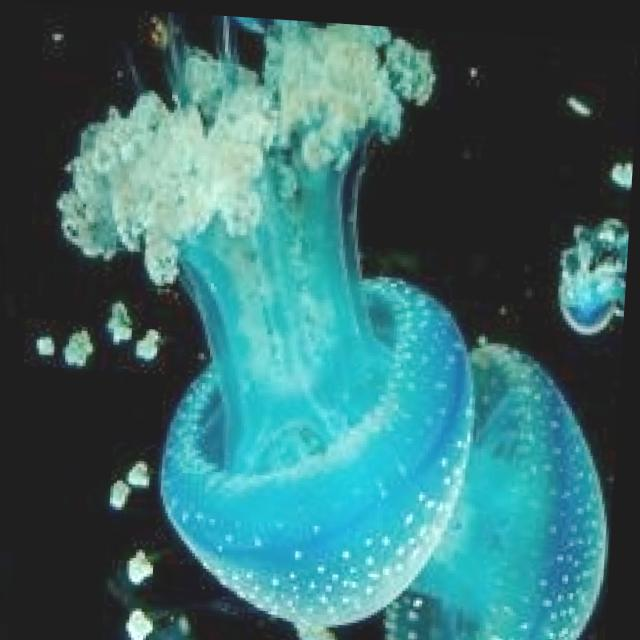Jellyfish: (6, 2, 510, 640)
